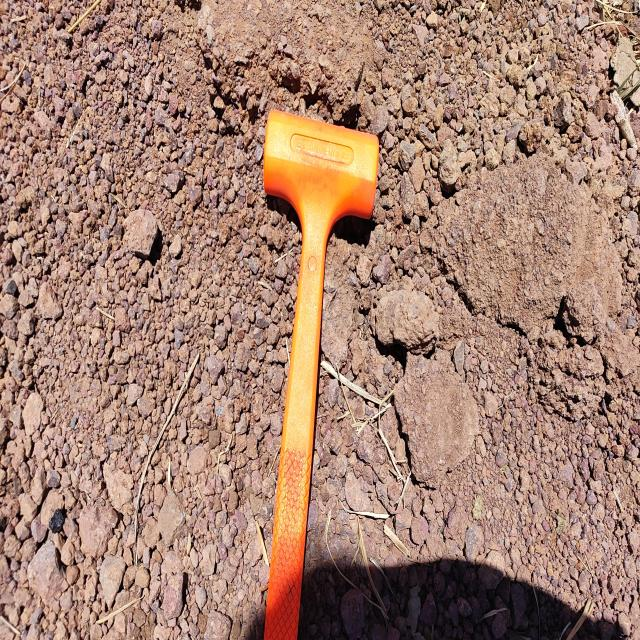Orange_hammer: (260, 107, 380, 638)
